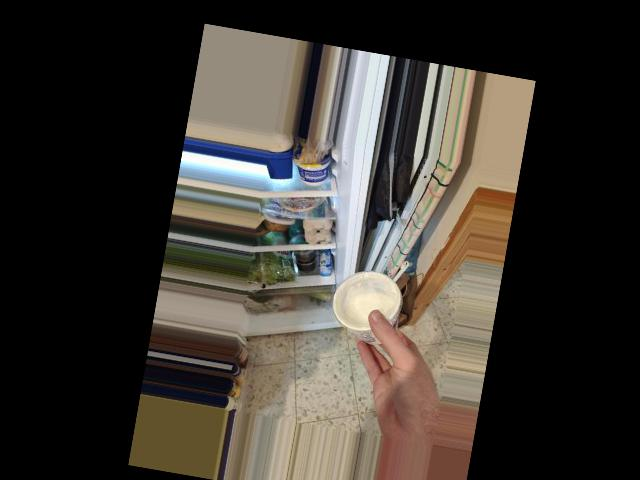cotage: (328, 257, 408, 352)
